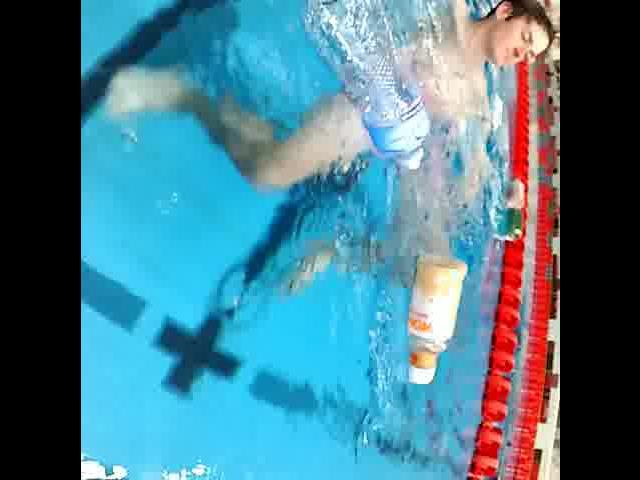Bottle: (304, 0, 430, 178), (395, 247, 469, 391), (504, 173, 528, 211)
Can: (498, 204, 526, 252)
